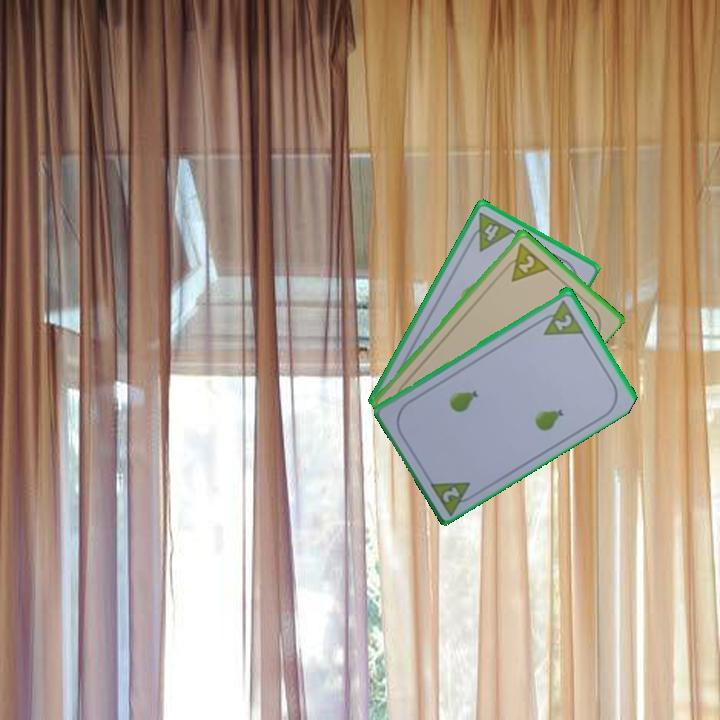2p: (498, 239, 551, 284), (534, 296, 586, 338), (426, 477, 480, 517)
4p: (464, 209, 517, 254)
